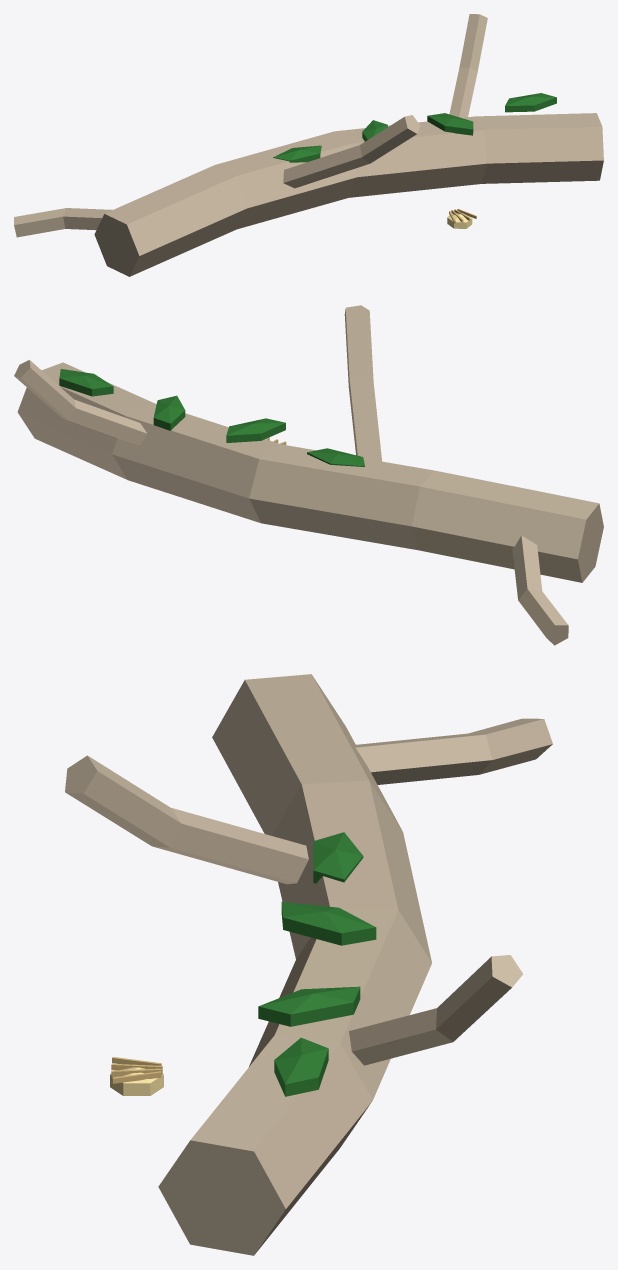
The model's file is treibholz.glb.
3 views of the same model, one above another, from view 1: azimuth 30°, elevation 25°; view 2: azimuth 150°, elevation 25°; view 3: azimuth 270°, elevation 25° (orthographic). The views are drawn at different scales.
Parts seen in each view (by area): view 1: treibholz-m; view 2: treibholz-m; view 3: treibholz-m.
Boxes of the visible parts, <box> form: treibholz-m: <box>14,14,603,276</box>; treibholz-m: <box>14,305,603,645</box>; treibholz-m: <box>65,674,552,1255</box>.
Size of the model in its own units: 2.11 by 0.534 by 0.8596.
